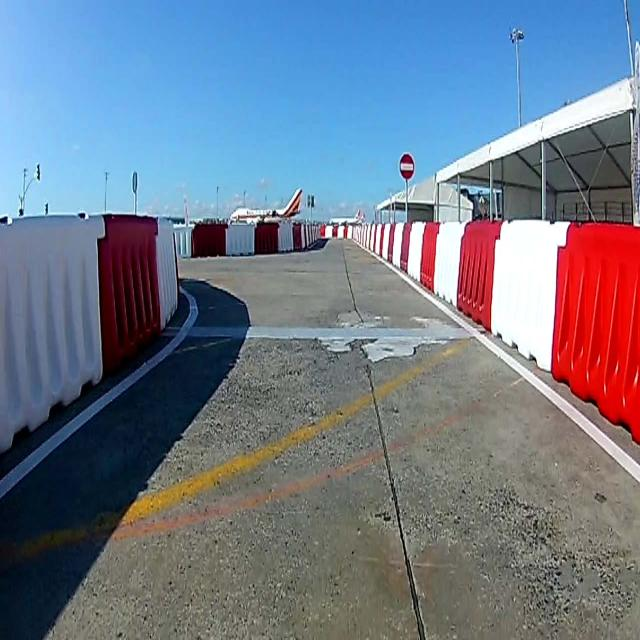girisyok: (398, 150, 416, 182)
